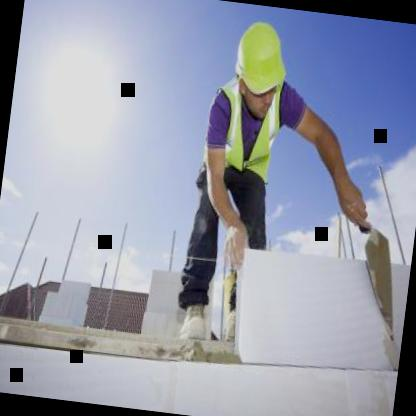helmet: (222, 6, 294, 132)
